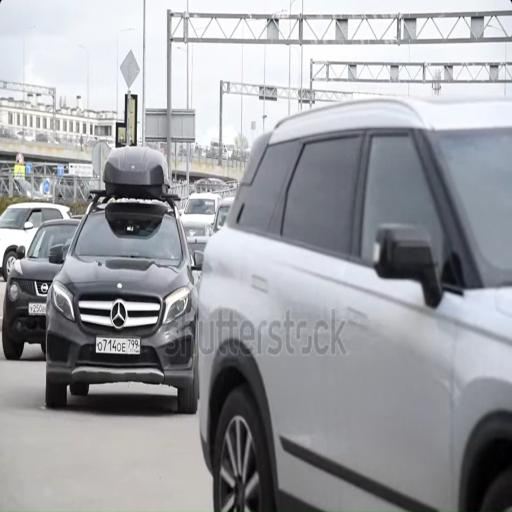License plates: (96, 337, 140, 355), (28, 302, 46, 316)
